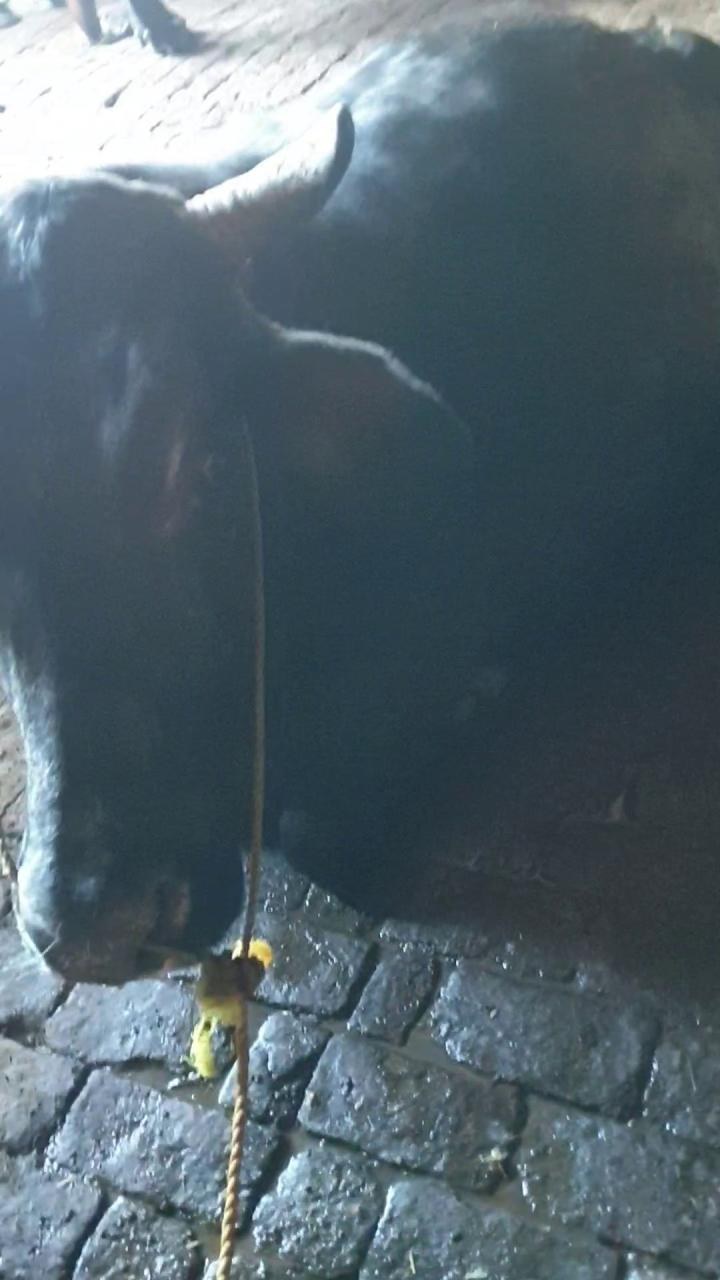cows: (0, 142, 287, 988)
